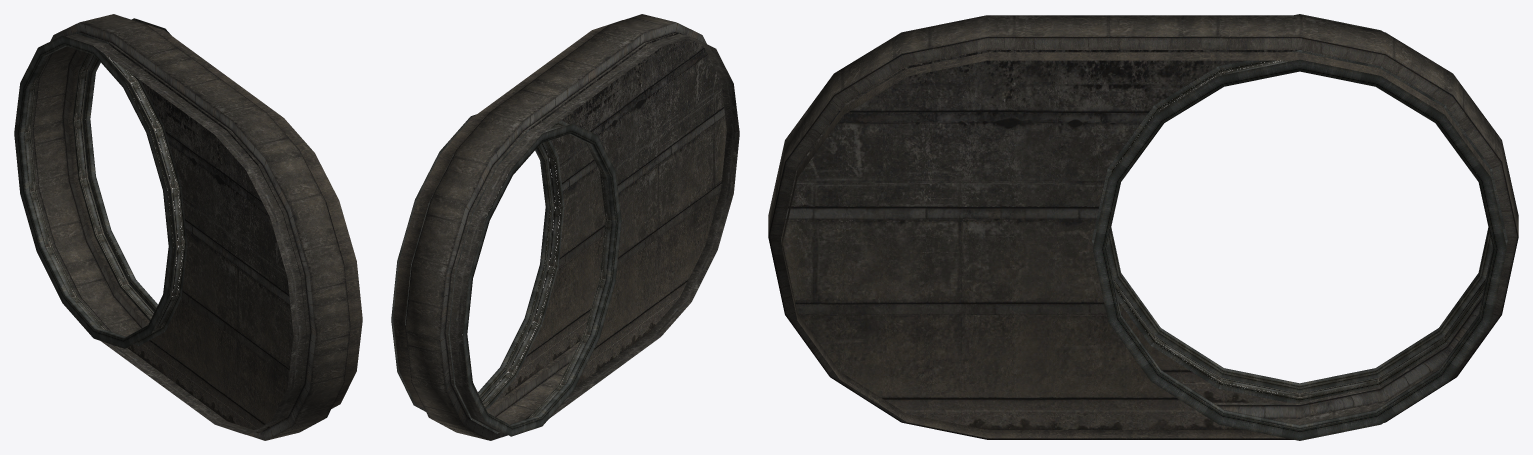
File: tunnels_curved_wall_doorway.DAE
3 views of the same model, side by side, from view 1: azimuth 30°, elevation 25°; view 2: azimuth 150°, elevation 25°; view 3: azimuth 270°, elevation 25° (orthographic). The views are drawn at different scales.
Visible parts, largest first — view 1: bulkhead_doorframe, bulkhead_details; view 2: bulkhead_doorframe, bulkhead_details; view 3: bulkhead_doorframe, bulkhead_details.
Part boxes in pixels (left/top/right/bottom): bulkhead_doorframe: left=20, top=14, right=362, bottom=440; bulkhead_details: left=14, top=18, right=187, bottom=348; bulkhead_doorframe: left=393, top=14, right=739, bottom=440; bulkhead_details: left=391, top=114, right=621, bottom=436; bulkhead_doorframe: left=768, top=15, right=1518, bottom=439; bulkhead_details: left=1092, top=14, right=1507, bottom=440.
Size of the model in its own units: 1.04 by 7.2 by 4.27.
